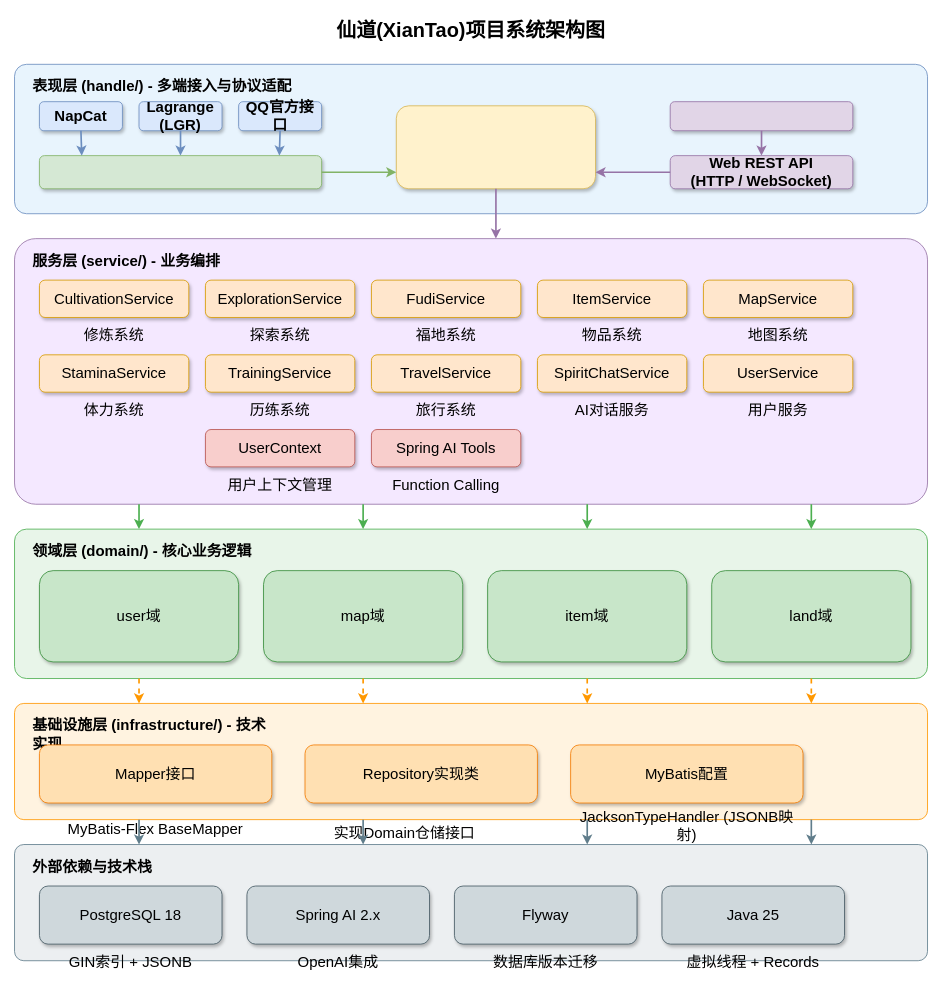
The diagram is 942 pixels wide and 986 high, and some of its shapes have lost their labels. Each missing label, with the centre of its shape:
Command命令分发中心 (统一指令解析与拦截器链): the point at 496,148
SimBot框架 (多协议统一接入适配): the point at 181,173
Web / App 前端接入: the point at 762,117
